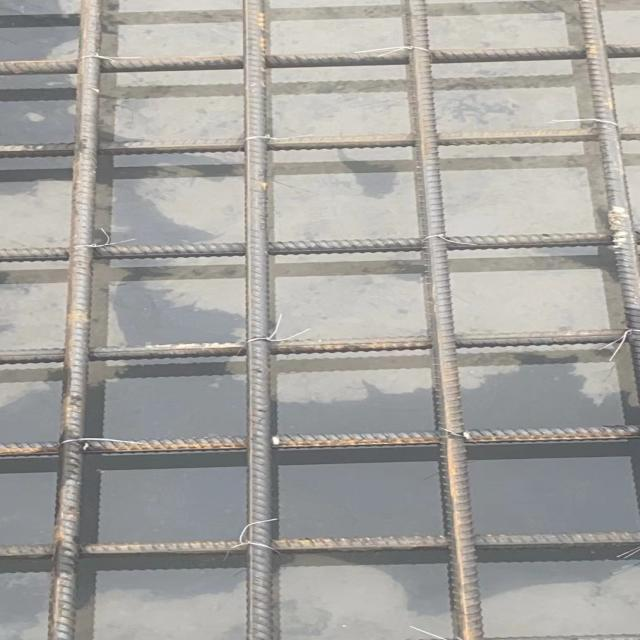ribbed bar: (398, 0, 482, 639), (46, 0, 103, 639), (574, 0, 638, 398), (0, 328, 629, 364), (239, 0, 274, 639), (0, 42, 639, 75), (0, 229, 639, 262), (0, 424, 639, 457), (0, 126, 639, 158), (0, 530, 639, 560)
